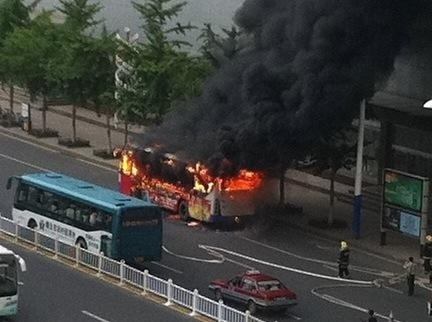fire: (117, 142, 265, 199)
